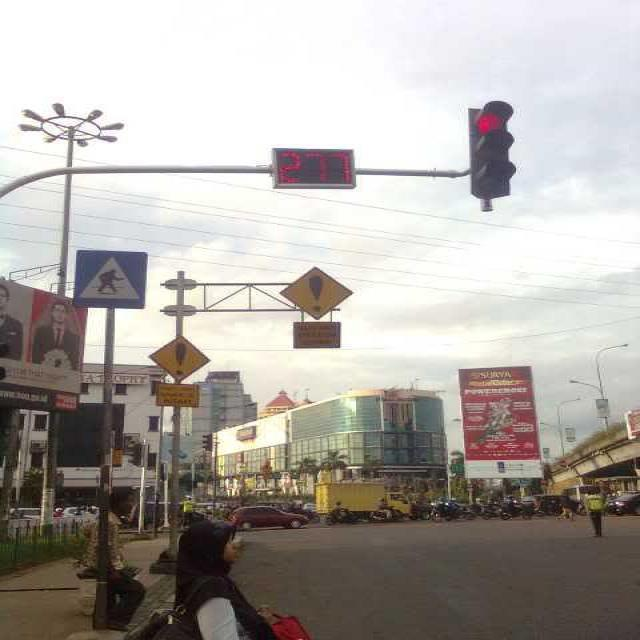red_light: (472, 103, 508, 200)
